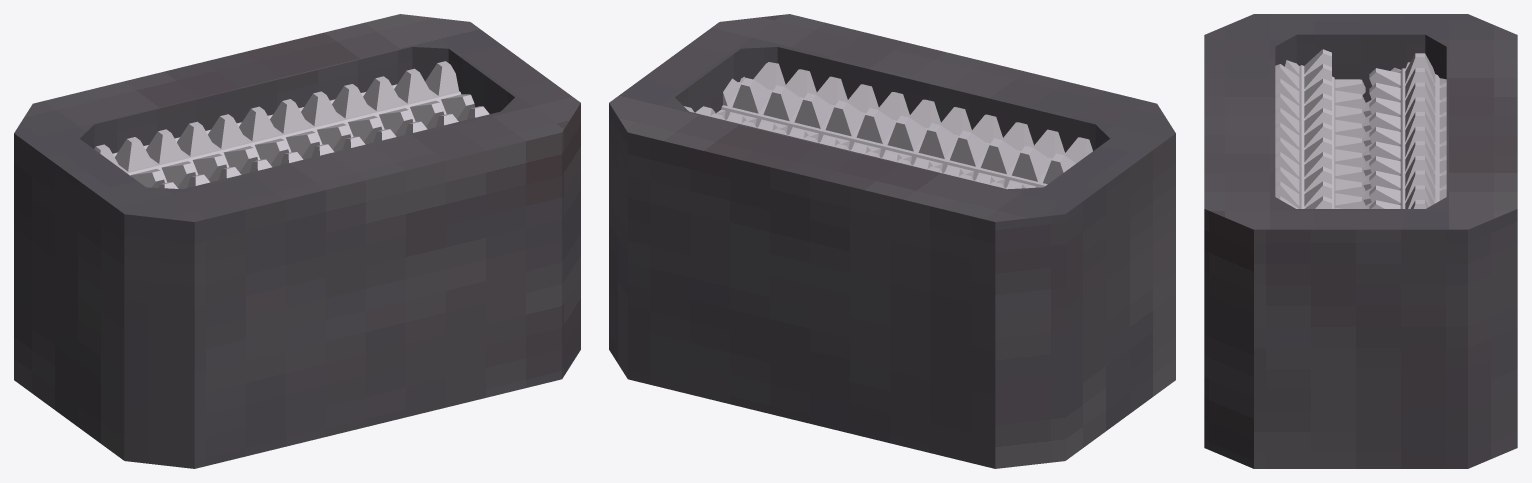
The model's file is grinder.glb.
The picture shows the model from 3 angles, left to right: view 1: azimuth 30°, elevation 25°; view 2: azimuth 150°, elevation 25°; view 3: azimuth 270°, elevation 25°; orthographic projection. The views are drawn at different scales.
Visible parts, largest first — view 1: Grinder_base, Grinder_rollers_back, Grinder_rollers_front; view 2: Grinder_base, Grinder_rollers_front, Grinder_rollers_back; view 3: Grinder_base, Grinder_rollers_front, Grinder_rollers_back.
Boxes of the visible parts, left/top/right/bottom form: Grinder_base: left=14, top=14, right=580, bottom=468; Grinder_rollers_back: left=94, top=61, right=475, bottom=189; Grinder_rollers_front: left=158, top=106, right=489, bottom=188; Grinder_base: left=609, top=14, right=1175, bottom=468; Grinder_rollers_front: left=716, top=62, right=1092, bottom=188; Grinder_rollers_back: left=684, top=106, right=1025, bottom=189; Grinder_base: left=1204, top=14, right=1517, bottom=468; Grinder_rollers_front: left=1275, top=49, right=1365, bottom=208; Grinder_rollers_back: left=1362, top=53, right=1446, bottom=208.
Bounding box in the file's own units: 2 × 1.03 × 1.23.
2 materials, 2 textured.
